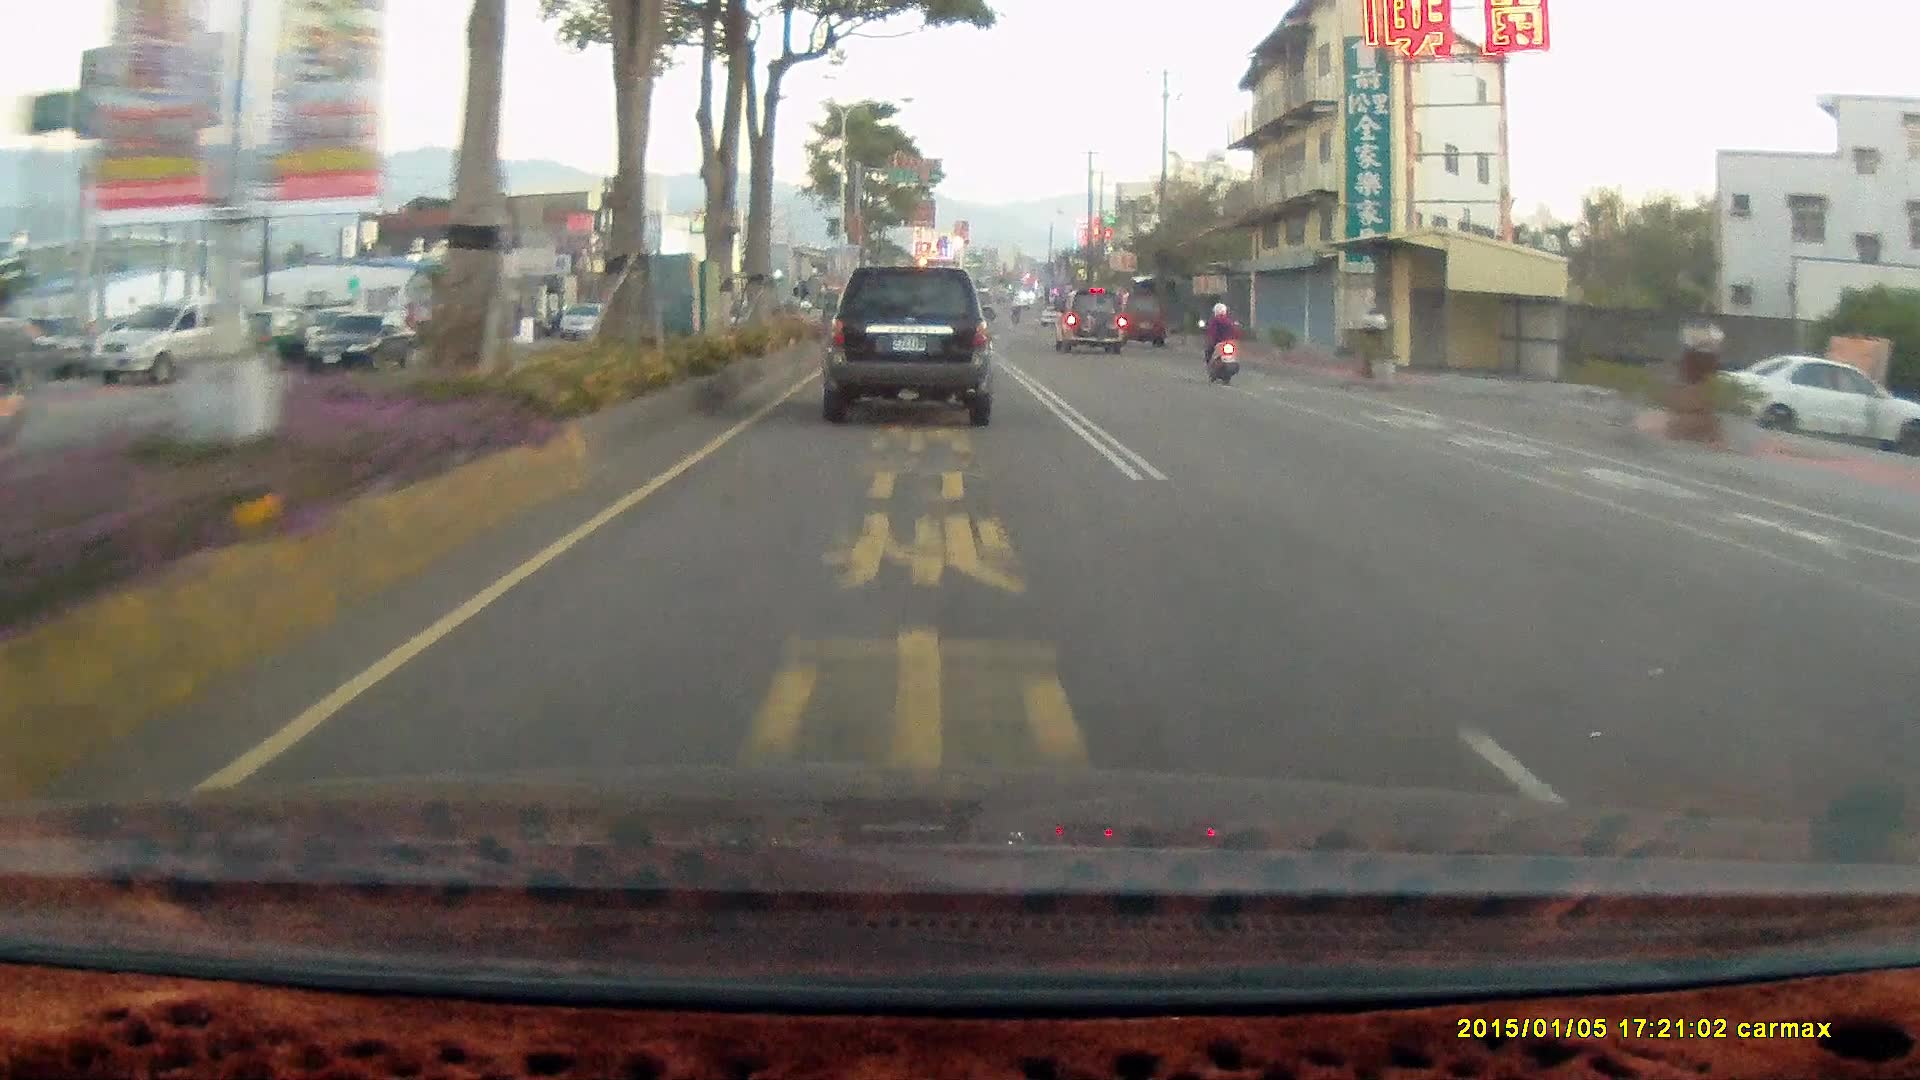rider: (1193, 294, 1249, 392), (1197, 295, 1242, 378)
vehicle: (814, 256, 1002, 420), (819, 264, 995, 427), (1720, 352, 1920, 450), (92, 297, 257, 384), (91, 296, 255, 383), (297, 310, 418, 376), (301, 307, 420, 370), (1058, 285, 1132, 355), (1052, 284, 1126, 351), (1114, 288, 1165, 344)
